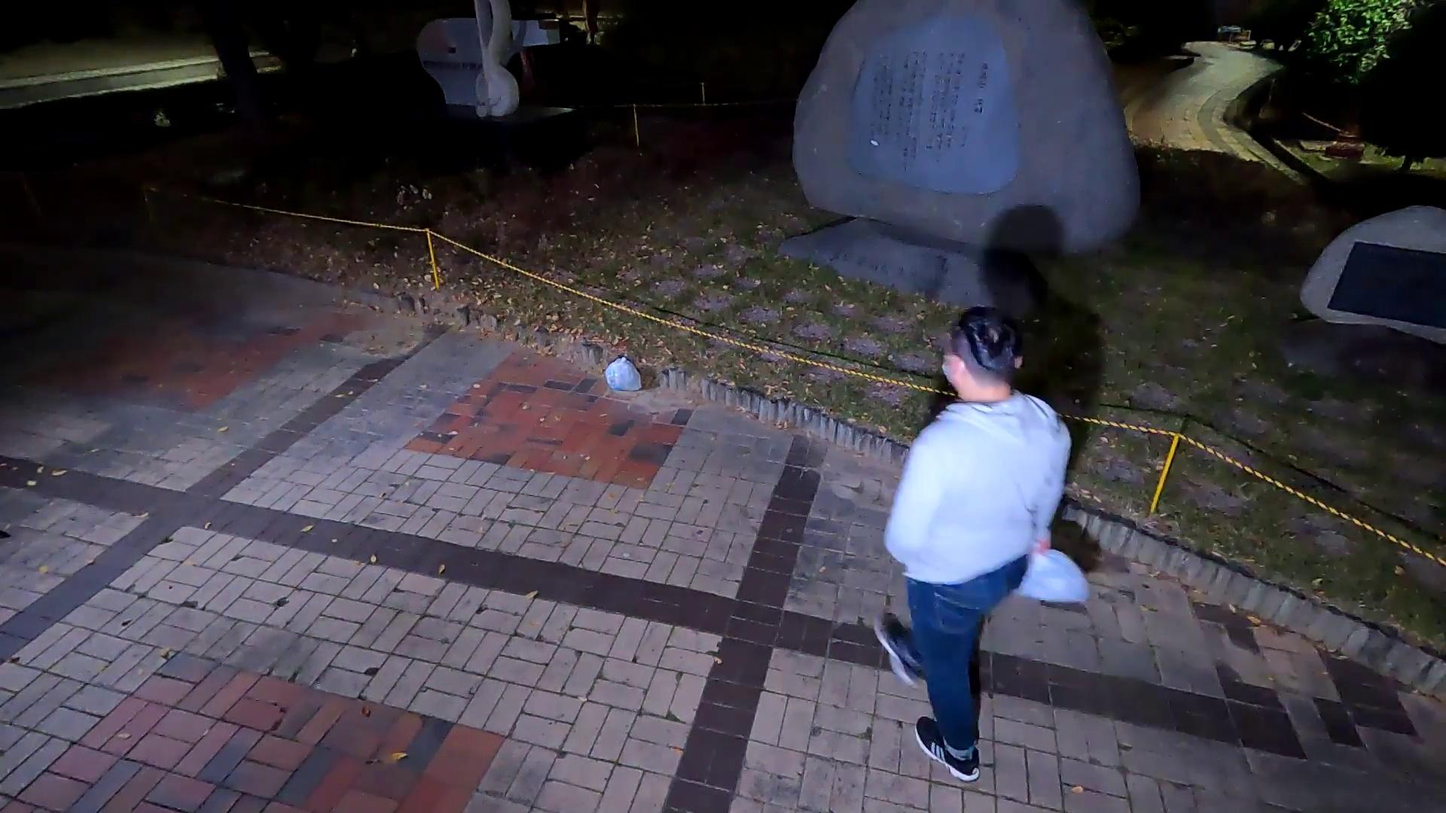person: (867, 304, 1071, 788)
trash: (1005, 540, 1092, 607), (605, 355, 644, 394)
